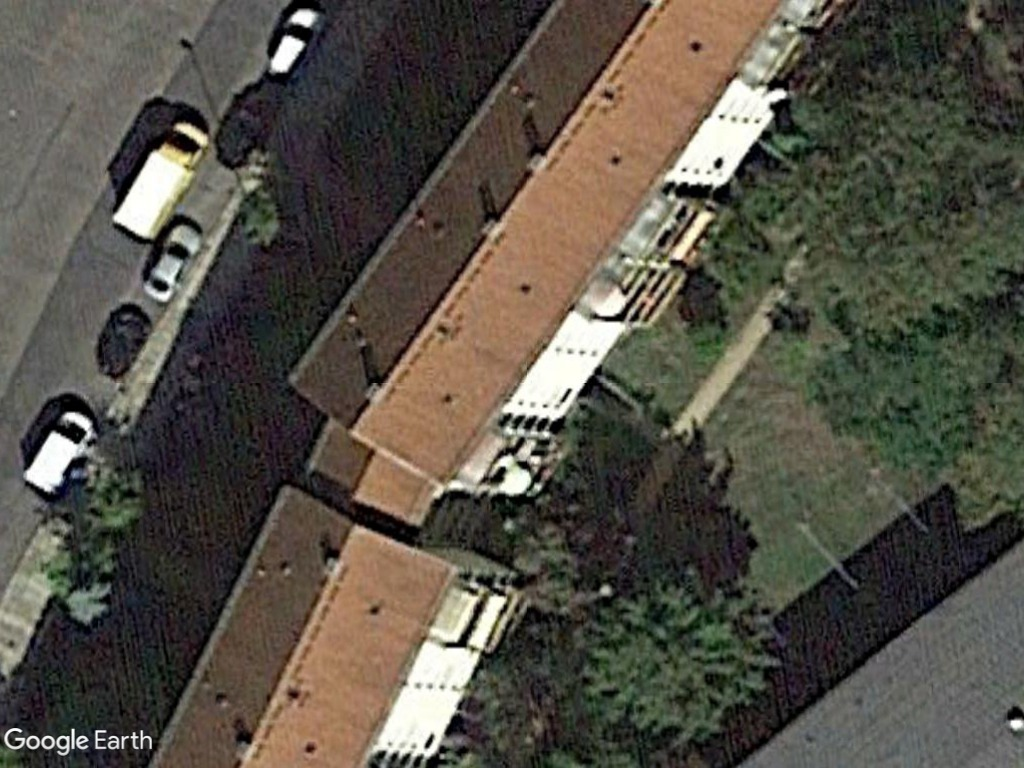car: (138, 215, 213, 309)
truck: (104, 108, 221, 248)
van: (15, 409, 104, 503)
